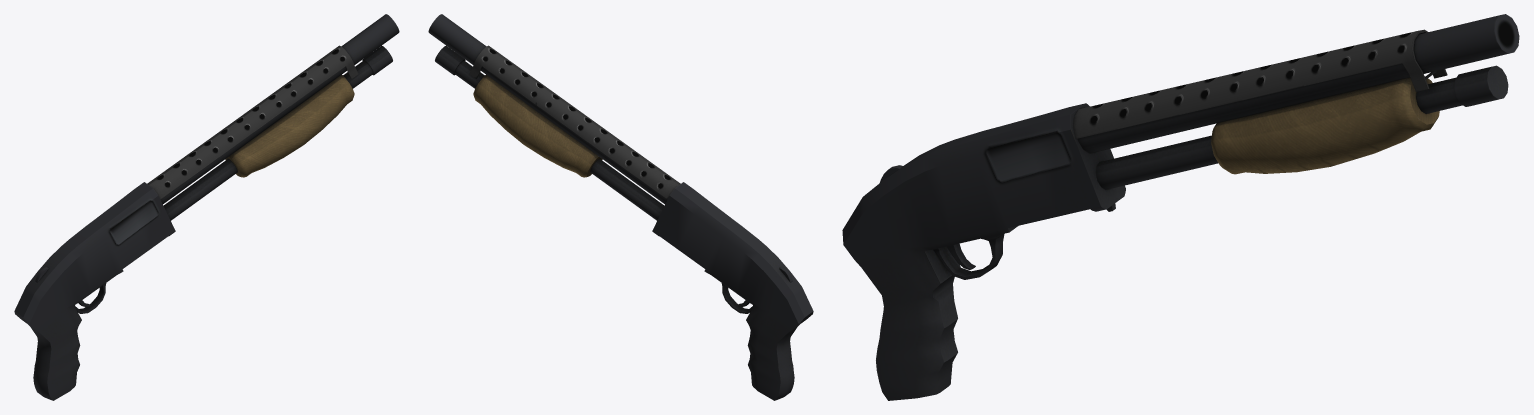
File: shotgun_000010.obj
3 views of the same model, side by side, from view 1: azimuth 30°, elevation 25°; view 2: azimuth 150°, elevation 25°; view 3: azimuth 330°, elevation 25° (orthographic). The views are drawn at different scales.
Parts seen in each view (by area): view 1: mesh_Cube.001; view 2: mesh_Cube.001; view 3: mesh_Cube.001.
Boxes of the visible parts, left/top/right/bottom form: mesh_Cube.001: left=14, top=14, right=399, bottom=400; mesh_Cube.001: left=428, top=14, right=813, bottom=400; mesh_Cube.001: left=842, top=14, right=1519, bottom=400.
Size of the model in its own units: 1.65 by 1.24 by 0.1708.
1 material, 1 textured.
